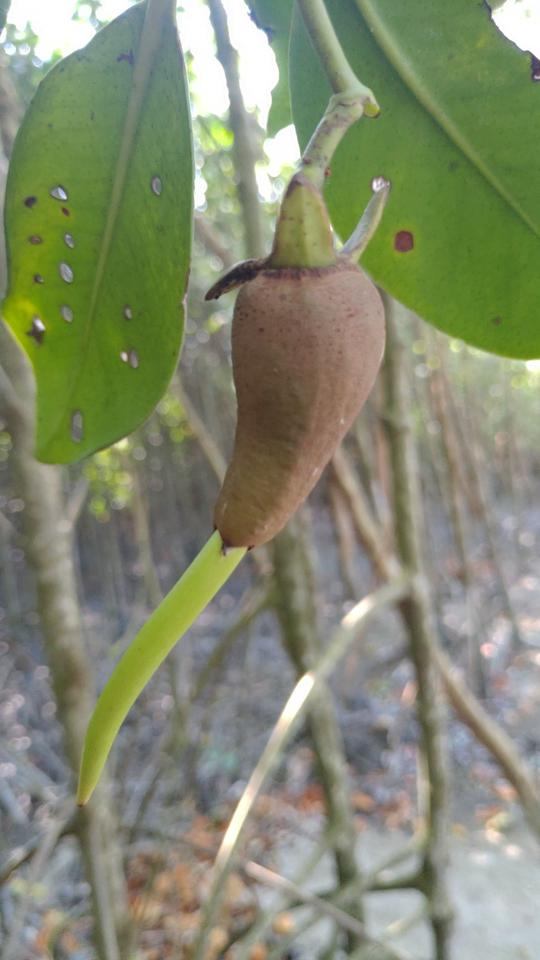mentah: (54, 160, 413, 826)
